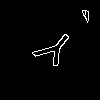Y: (25, 25, 80, 81)
